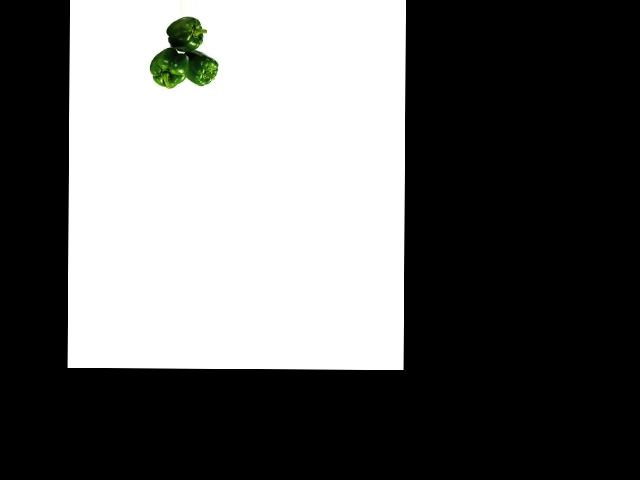bell_pepper: (146, 47, 190, 91)
